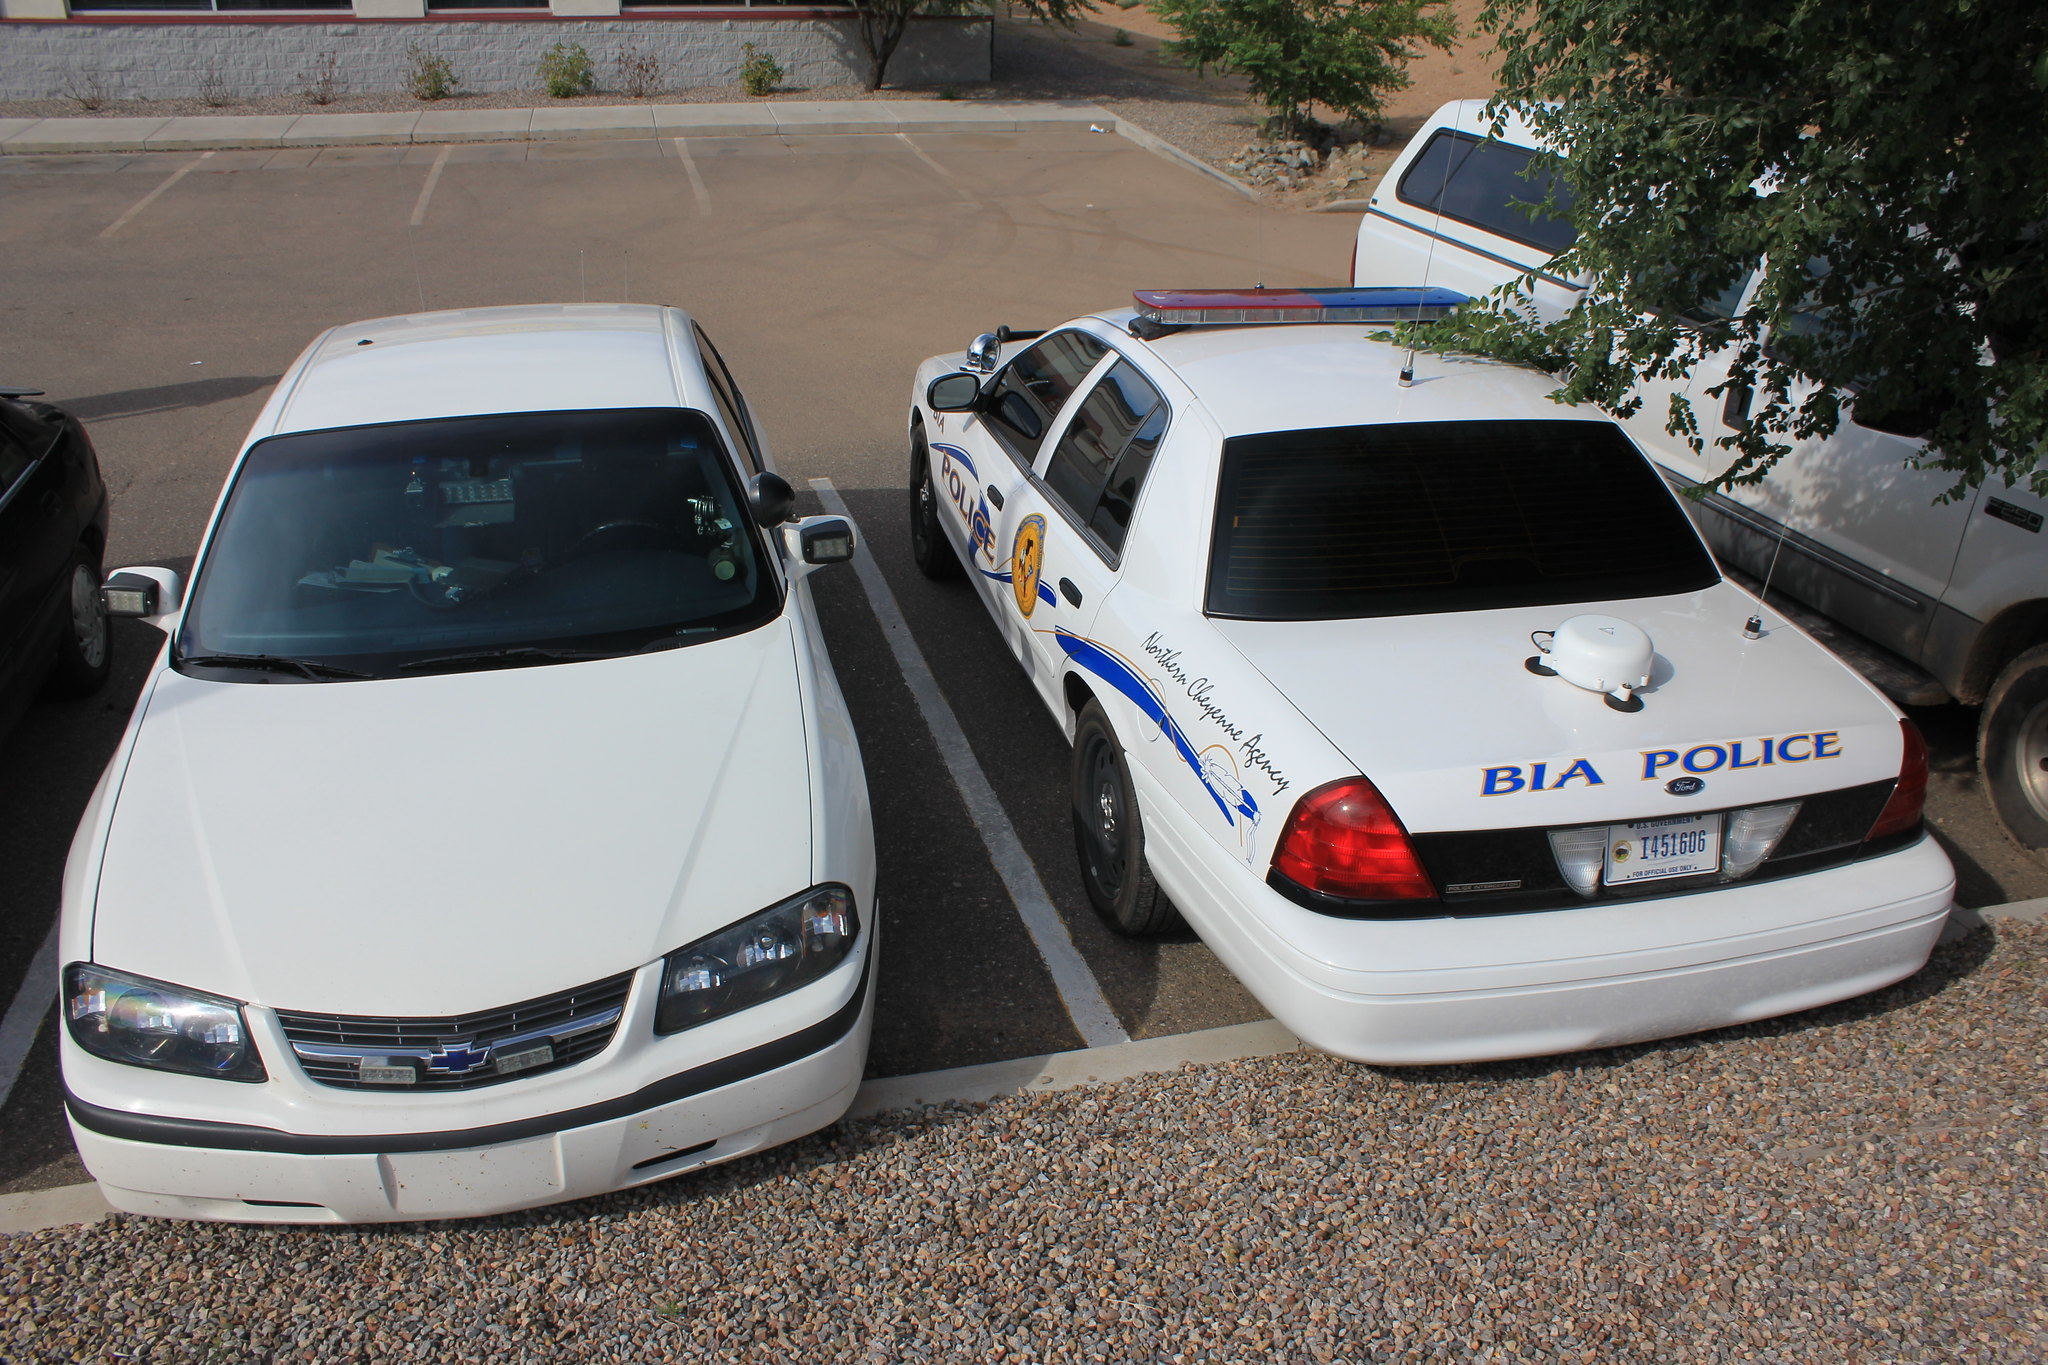Car: (906, 264, 1970, 1079), (44, 270, 868, 1281), (1343, 82, 2046, 824)
